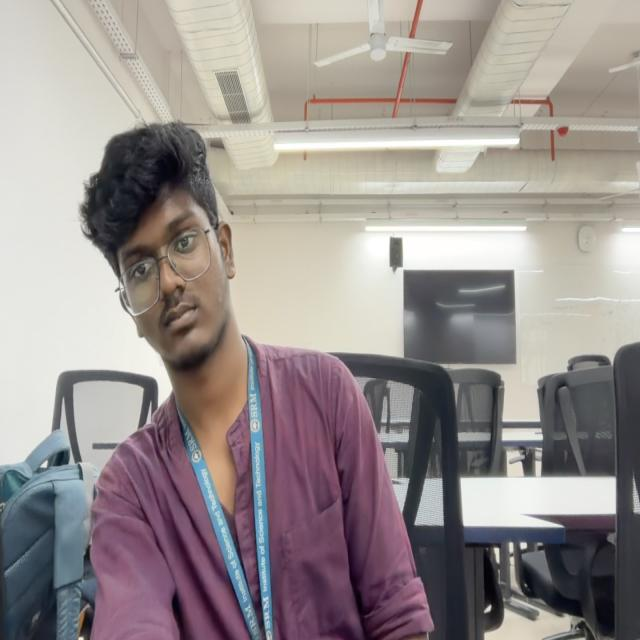ravindra: (79, 122, 236, 372)
